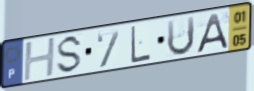7: (95, 27, 122, 69)
A: (194, 11, 230, 55)
H: (22, 35, 58, 83)
L: (130, 24, 152, 65)
S: (54, 33, 84, 76)
U: (165, 14, 197, 58)
